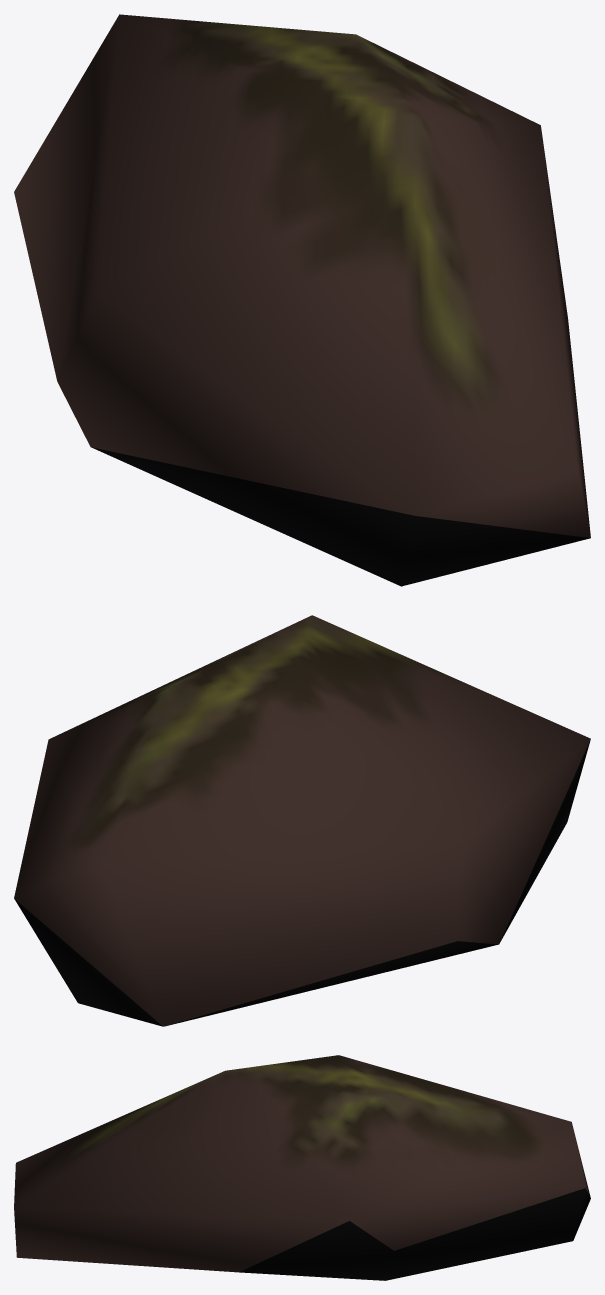
The model's file is SM_RockLagoon_06.fbx.
3 renders of one model, top to bottom at view 1: azimuth 30°, elevation 25°; view 2: azimuth 150°, elevation 25°; view 3: azimuth 270°, elevation 25°, orthographic. The views are drawn at different scales.
Visible parts, largest first — view 1: Esfera.006; view 2: Esfera.006; view 3: Esfera.006.
Part boxes in pixels (x1,y1,x2,y2): Esfera.006: [14, 14, 590, 586]; Esfera.006: [14, 615, 590, 1026]; Esfera.006: [14, 1055, 590, 1280].
Bounding box in the file's own units: 2.8 × 1.81 × 4.49.
1 material, 1 textured.
